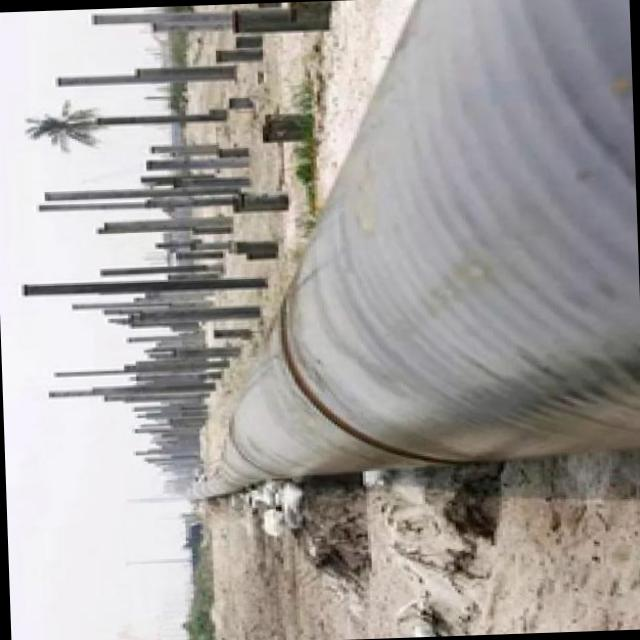gas: (201, 0, 640, 491)
